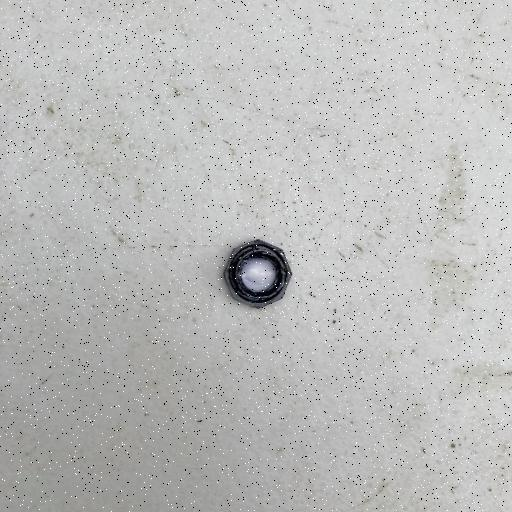Plastic: (221, 238, 293, 310)
